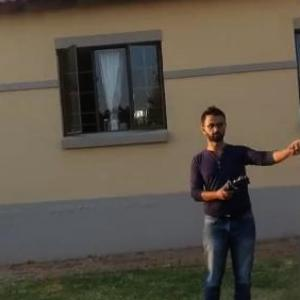follow: (183, 100, 300, 299)
